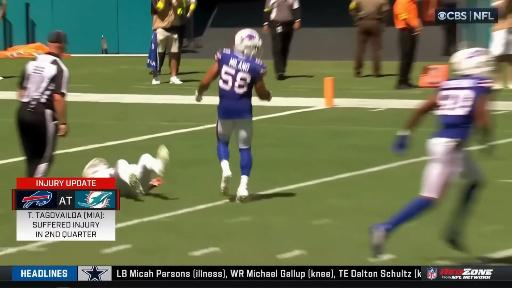Helmet: (450, 48, 495, 76), (234, 29, 262, 56), (83, 158, 109, 177)
Jersey: (433, 76, 493, 141), (215, 49, 266, 119), (91, 166, 116, 178)
Player: (371, 48, 494, 256), (196, 29, 271, 202), (83, 146, 169, 195)
